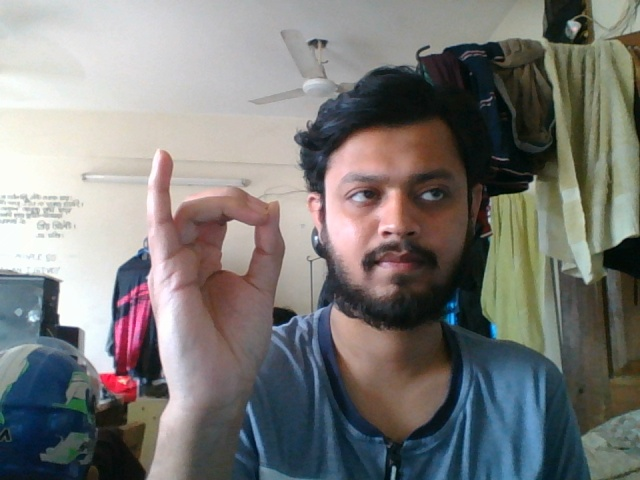ou: (137, 140, 294, 431)
